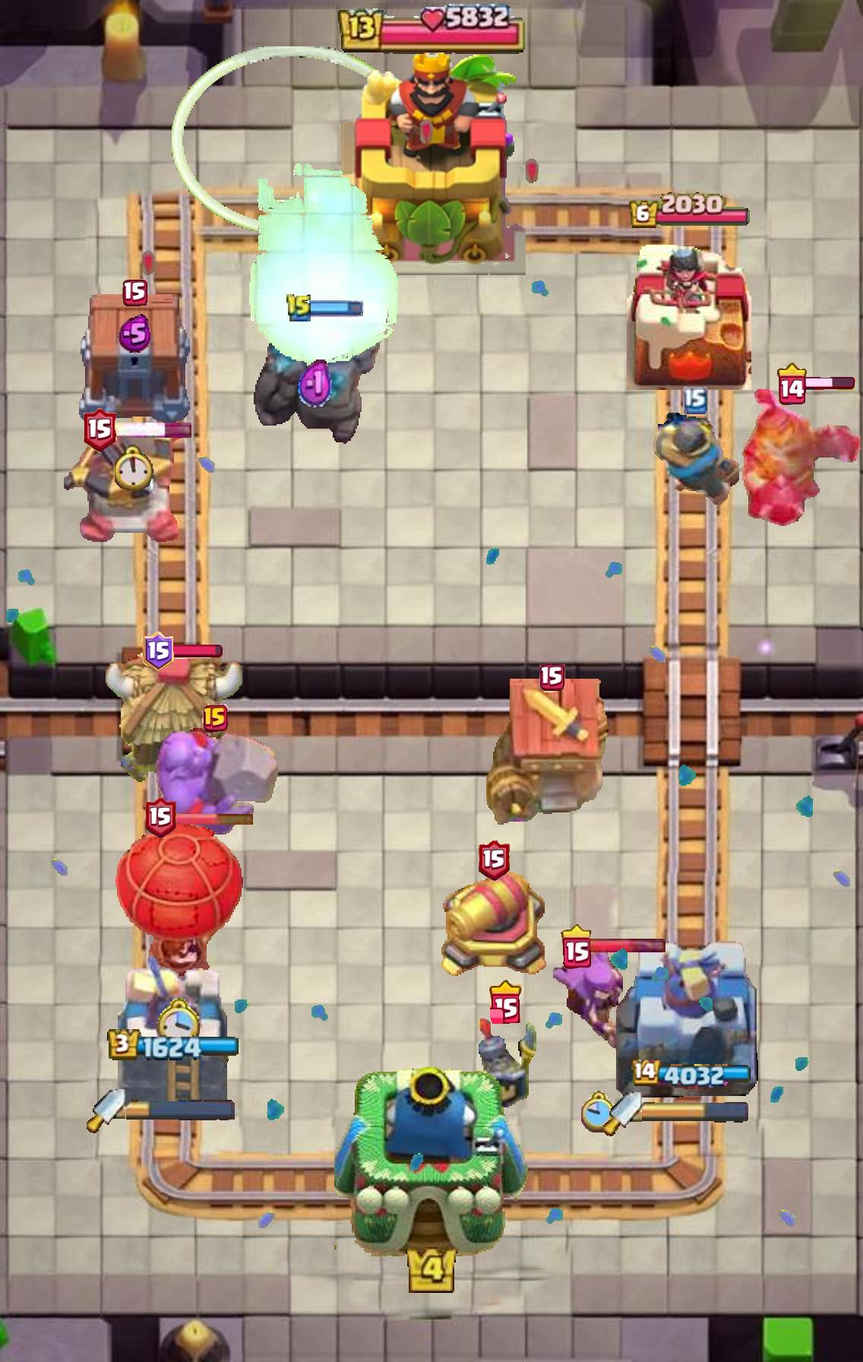elixir: (298, 358, 334, 412), (118, 314, 152, 353)
